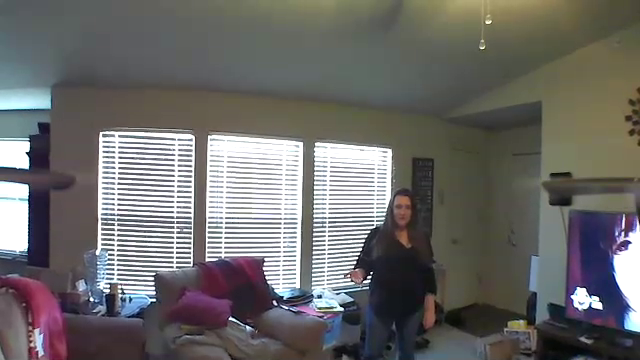land: (340, 266, 367, 290)
